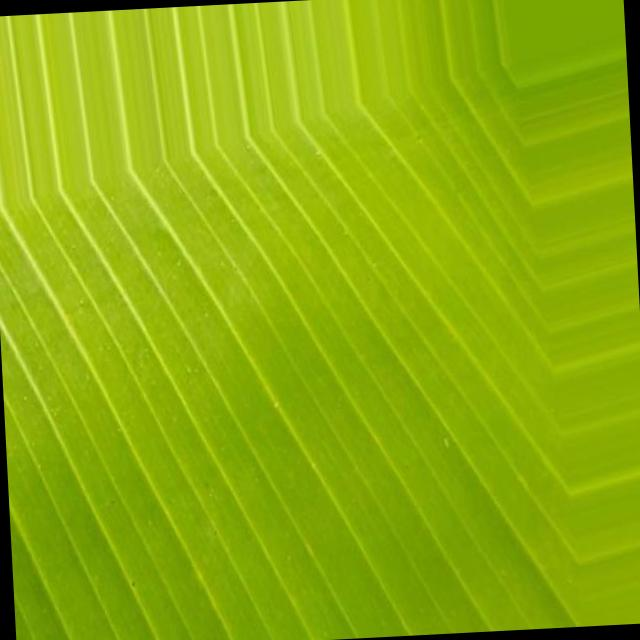Banana_Healthy: (25, 49, 640, 640)
